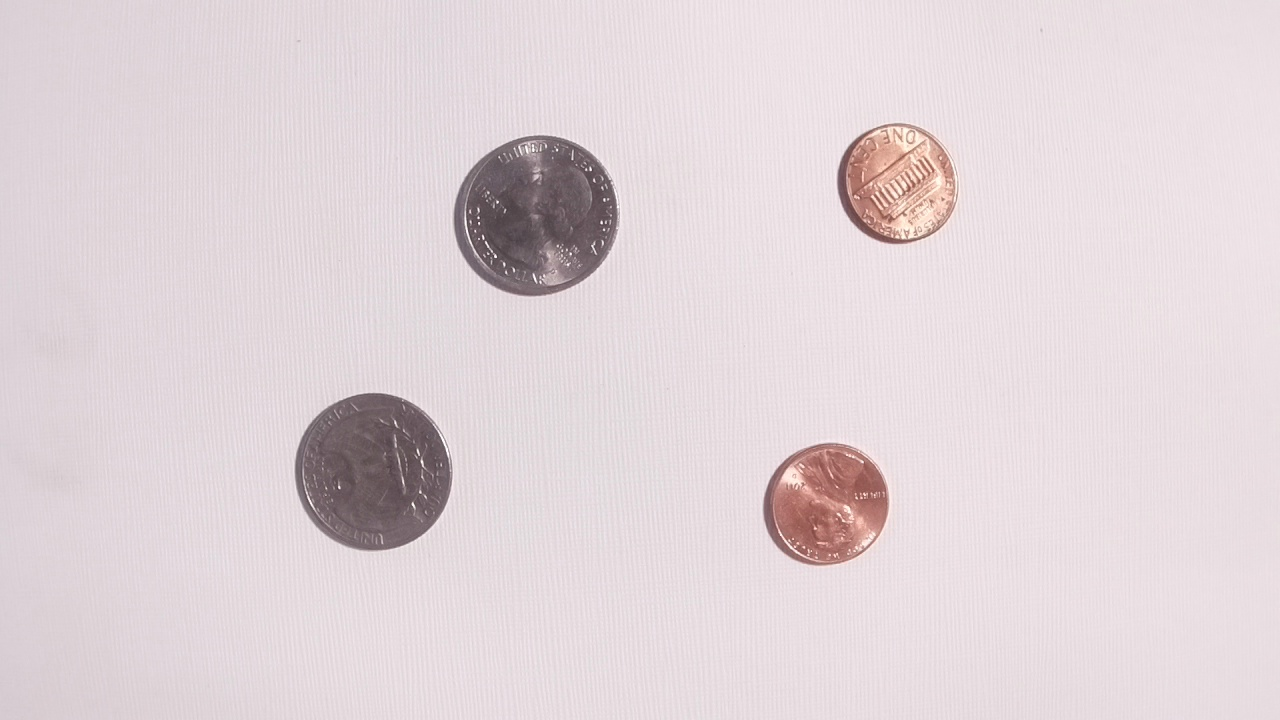penny: (758, 438, 896, 570), (831, 116, 963, 252)
quarter: (286, 388, 458, 558), (448, 134, 626, 298)
